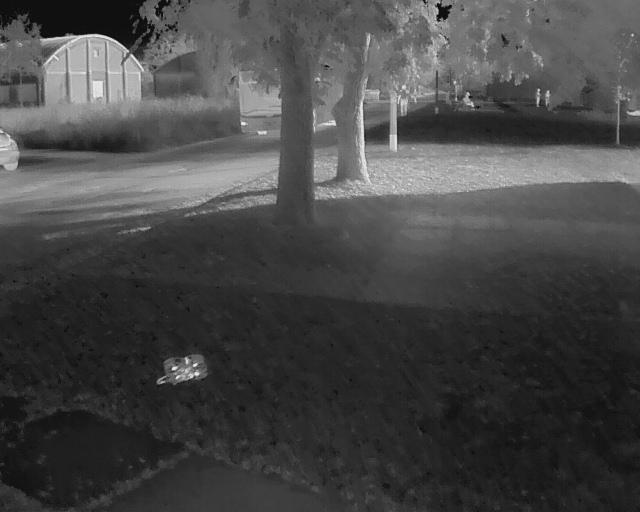drone: (153, 349, 214, 390)
